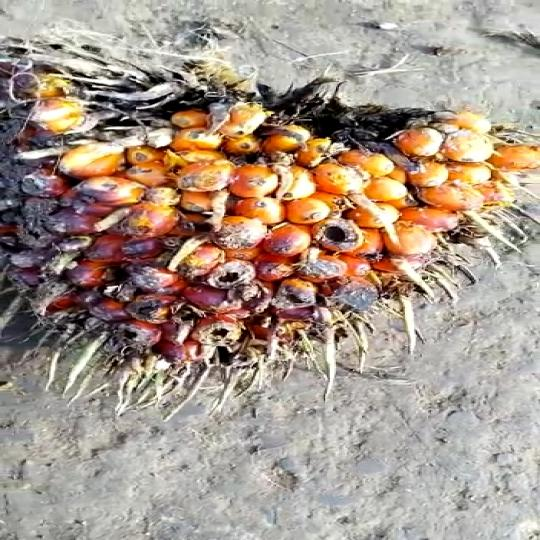masak: (0, 36, 540, 408)
